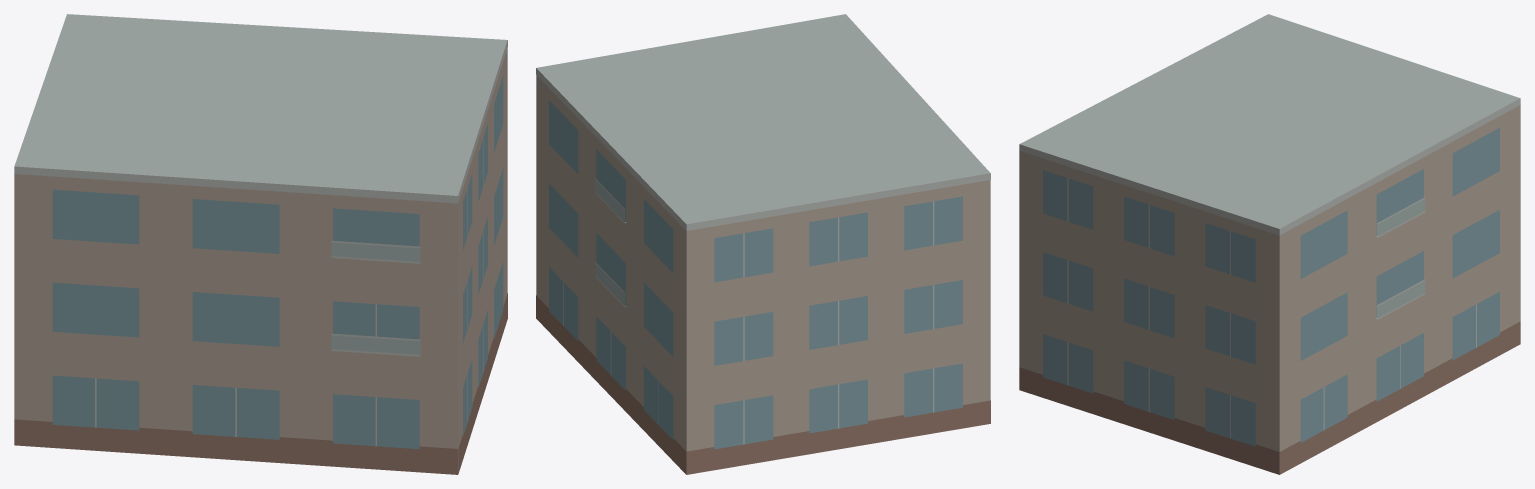
Rendered from survey-upis-32708698.glb.
3 renders of one model, left to right at view 1: azimuth 30°, elevation 25°; view 2: azimuth 150°, elevation 25°; view 3: azimuth 270°, elevation 25°, orthographic. The views are drawn at different scales.
Parts seen in each view (by area): view 1: survey-upis-32708698.tmp; view 2: survey-upis-32708698.tmp; view 3: survey-upis-32708698.tmp.
Boxes of the visible parts, box(x1,y1,x2,y2) form: survey-upis-32708698.tmp: box(14, 14, 507, 474); survey-upis-32708698.tmp: box(536, 14, 990, 474); survey-upis-32708698.tmp: box(1019, 14, 1520, 474).
Size of the model in its own units: 17.17 by 9.15 by 16.91.
